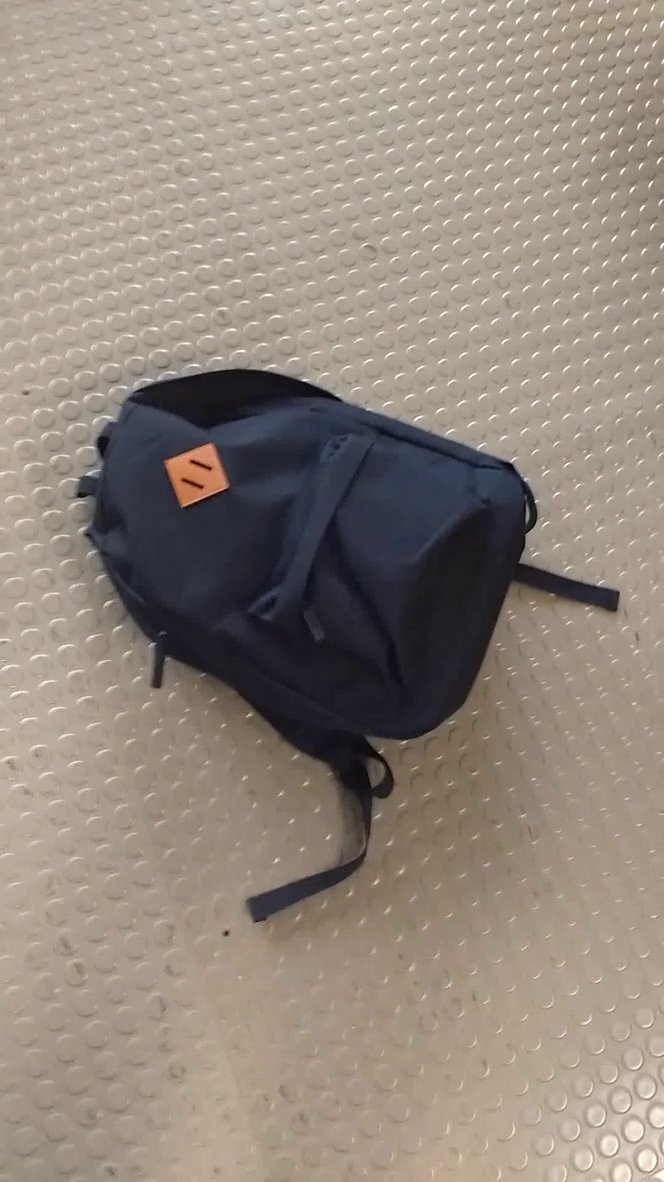bag: (71, 359, 635, 928)
